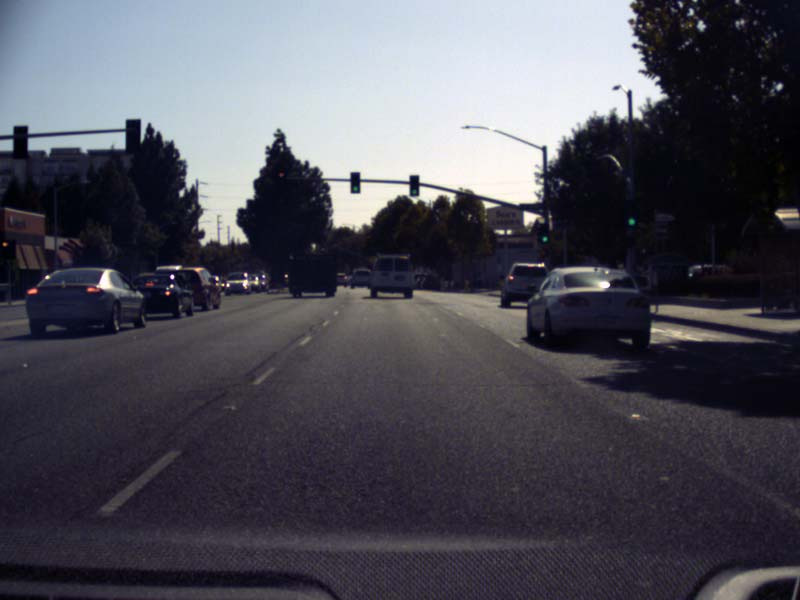Green: (350, 171, 359, 193), (540, 223, 549, 244), (410, 174, 418, 196), (624, 215, 638, 227)
Red: (1, 239, 10, 258)
Yellow: (277, 170, 285, 187)
